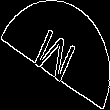M_SW: (29, 21, 81, 89)
